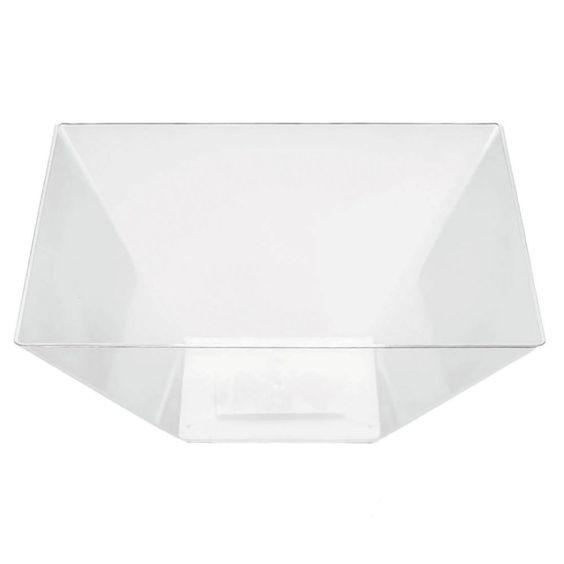PS: (10, 122, 547, 448)
